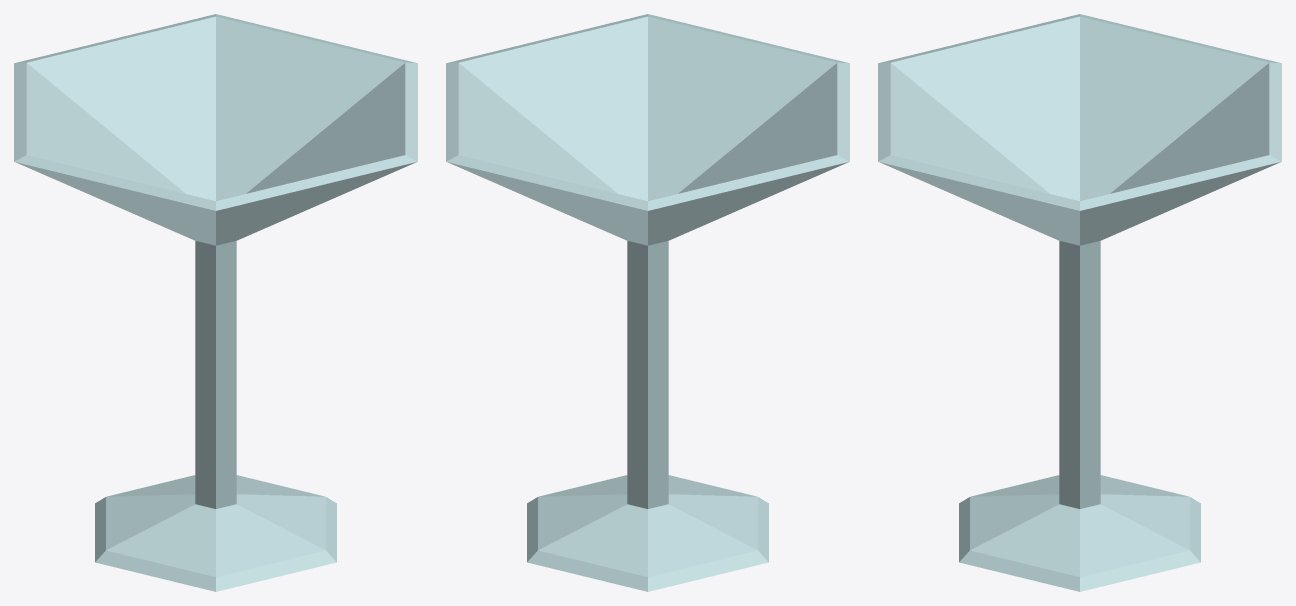
Rendered from glass.fbx.
The picture shows the model from 3 angles, left to right: view 1: azimuth 30°, elevation 25°; view 2: azimuth 150°, elevation 25°; view 3: azimuth 270°, elevation 25°; orthographic projection.
Parts seen in each view (by area): view 1: pCylinder12; view 2: pCylinder12; view 3: pCylinder12.
Part boxes in pixels (left/top/right/bottom): pCylinder12: left=14, top=14, right=417, bottom=591; pCylinder12: left=446, top=14, right=849, bottom=591; pCylinder12: left=878, top=14, right=1281, bottom=591.
Size of the model in its own units: 0.0222 by 0.0223 by 0.0193.
